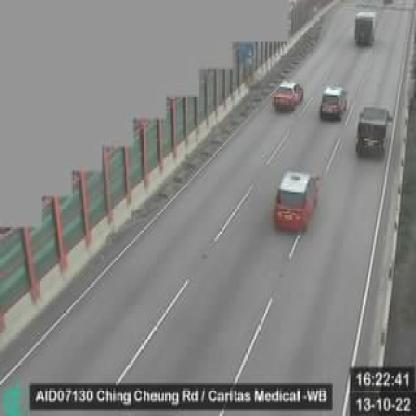Car: (273, 169, 320, 232), (354, 106, 392, 161), (272, 79, 303, 112), (319, 84, 347, 120)
Truck: (354, 8, 375, 47)
